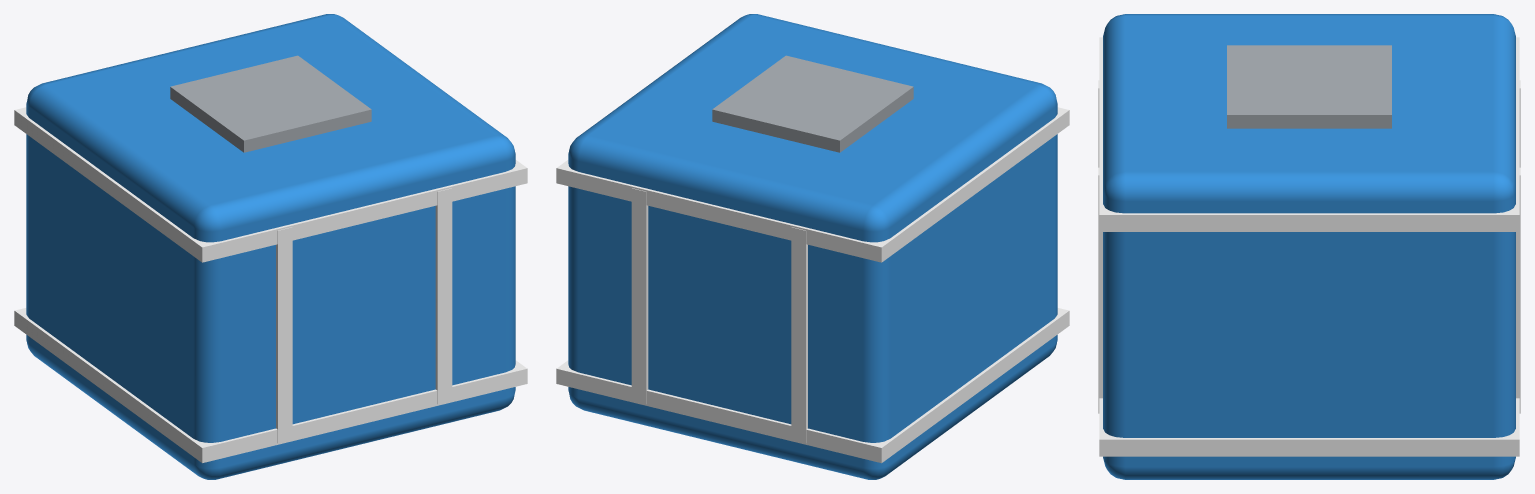
Rendered from POWER_SPEED.glb.
3 renders of one model, left to right at view 1: azimuth 30°, elevation 25°; view 2: azimuth 150°, elevation 25°; view 3: azimuth 270°, elevation 25°, orthographic. The views are drawn at different scales.
Visible parts, largest first — view 1: paint_0, lamps_2, steel_1; view 2: paint_0, lamps_2, steel_1; view 3: paint_0, lamps_2, steel_1.
Boxes of the visible parts, x1,y1,x2,y2 form: paint_0: [26, 14, 515, 479]; lamps_2: [14, 107, 527, 463]; steel_1: [170, 55, 371, 152]; paint_0: [568, 14, 1057, 479]; lamps_2: [556, 107, 1069, 463]; steel_1: [712, 55, 913, 152]; paint_0: [1103, 14, 1515, 479]; lamps_2: [1098, 37, 1520, 456]; steel_1: [1227, 45, 1391, 128].
Size of the model in its own units: 0.56 by 0.47 by 0.562.
